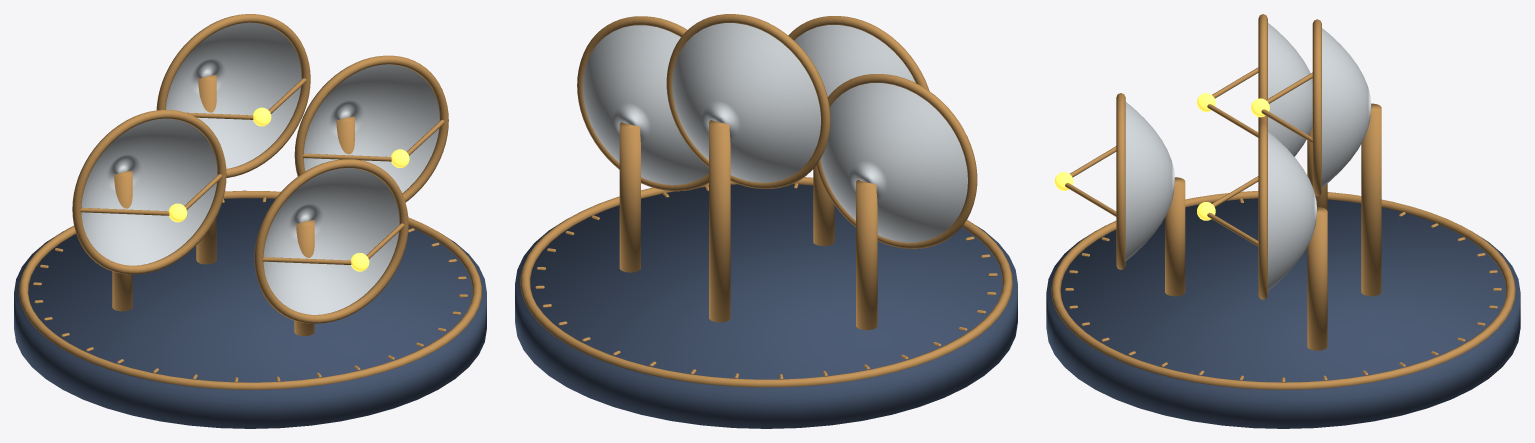
The model's file is surgeline.glb.
3 views of the same model, side by side, from view 1: azimuth 30°, elevation 25°; view 2: azimuth 150°, elevation 25°; view 3: azimuth 270°, elevation 25° (orthographic). The views are drawn at different scales.
Visible parts, largest first — view 1: surgelineMount, DishPivot3Mesh, DishPivot0Mesh, DishPivot1Mesh, DishPivot2Mesh; view 2: surgelineMount, DishPivot1Mesh, DishPivot0Mesh, DishPivot2Mesh, DishPivot3Mesh; view 3: surgelineMount, DishPivot1Mesh, DishPivot2Mesh, DishPivot3Mesh, DishPivot0Mesh.
Boxes of the visible parts, bbox=[...] form: surgelineMount: bbox=[14, 74, 486, 428]; DishPivot3Mesh: bbox=[254, 159, 408, 323]; DishPivot0Mesh: bbox=[72, 110, 226, 274]; DishPivot1Mesh: bbox=[156, 14, 310, 177]; DishPivot2Mesh: bbox=[294, 55, 448, 202]; surgelineMount: bbox=[515, 120, 1017, 428]; DishPivot1Mesh: bbox=[666, 14, 830, 188]; DishPivot0Mesh: bbox=[816, 74, 977, 248]; DishPivot2Mesh: bbox=[577, 16, 708, 191]; DishPivot3Mesh: bbox=[788, 16, 929, 169]; surgelineMount: bbox=[1046, 103, 1520, 428]; DishPivot1Mesh: bbox=[1251, 19, 1371, 196]; DishPivot2Mesh: bbox=[1197, 123, 1317, 299]; DishPivot3Mesh: bbox=[1054, 93, 1174, 269]; DishPivot0Mesh: bbox=[1197, 14, 1312, 156].
Size of the model in its own units: 3.5 by 2.45 by 3.5.
